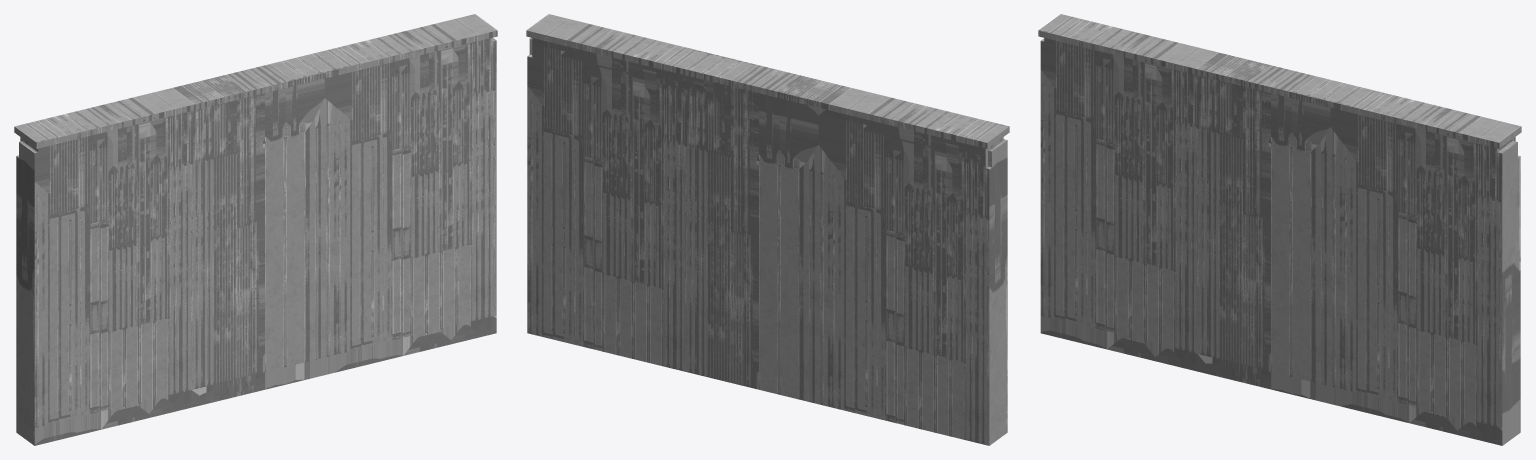
Rendered from SM_Building03_WallRoof01R1.fbx.
3 views of the same model, side by side, from view 1: azimuth 30°, elevation 25°; view 2: azimuth 150°, elevation 25°; view 3: azimuth 330°, elevation 25° (orthographic).
Visible parts, largest first — view 1: SM_Building03_WallRoof01R1_LOD0; view 2: SM_Building03_WallRoof01R1_LOD0; view 3: SM_Building03_WallRoof01R1_LOD0.
Part boxes in pixels (box(x1,y1,x2,y2)): SM_Building03_WallRoof01R1_LOD0: box(14, 14, 497, 445); SM_Building03_WallRoof01R1_LOD0: box(526, 14, 1009, 445); SM_Building03_WallRoof01R1_LOD0: box(1038, 14, 1521, 445).
Size of the model in its own units: 612 by 51.56 by 385.
